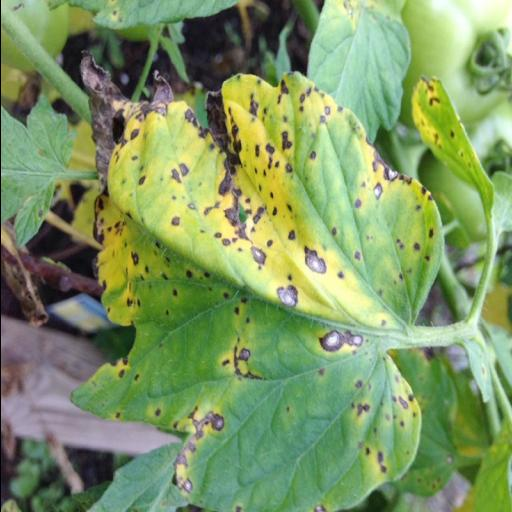disease_tomato: (64, 46, 444, 512), (408, 70, 498, 216)
